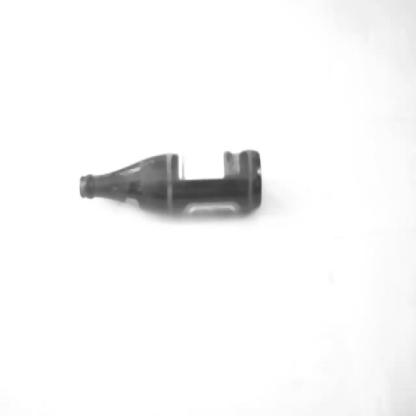Can: (79, 150, 262, 218)
